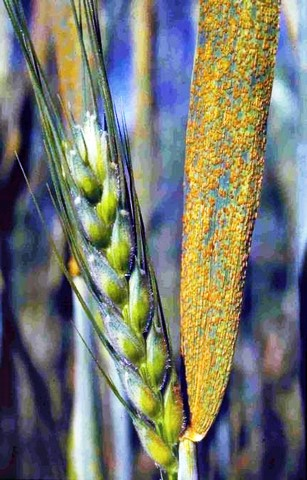Leaf Rust: (180, 1, 279, 414)
